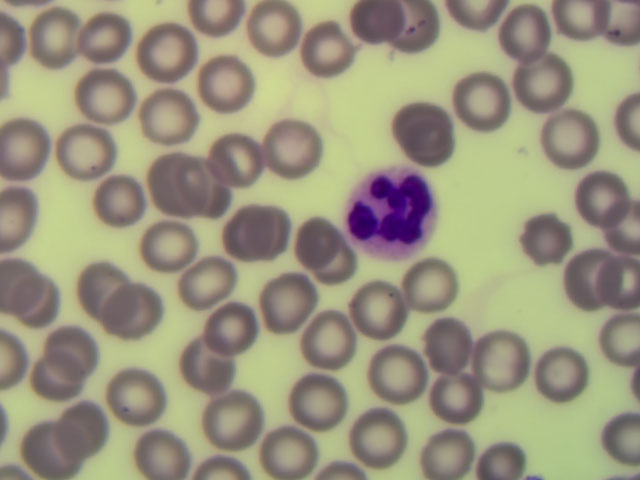RBC: (251, 420, 313, 480), (147, 420, 209, 480), (349, 404, 411, 464), (27, 9, 89, 68), (77, 5, 139, 64), (135, 14, 197, 73), (193, 52, 255, 111), (136, 85, 198, 144), (67, 67, 129, 126), (60, 115, 122, 174), (3, 120, 65, 179), (90, 171, 152, 230), (142, 148, 204, 207), (181, 151, 243, 210), (208, 133, 270, 192), (267, 118, 329, 177), (280, 207, 342, 266), (314, 232, 376, 291), (253, 201, 315, 260), (215, 201, 277, 260), (141, 213, 203, 272), (176, 252, 238, 311), (116, 275, 178, 334), (75, 260, 137, 319), (37, 318, 99, 377), (28, 352, 90, 411), (58, 397, 120, 456), (22, 414, 84, 473), (103, 370, 165, 429), (171, 336, 233, 395), (199, 309, 261, 368), (259, 278, 321, 337), (293, 309, 355, 368), (349, 279, 411, 338), (389, 263, 451, 322), (418, 318, 480, 377), (368, 344, 430, 403), (287, 373, 349, 432), (199, 390, 261, 449), (421, 372, 483, 431), (484, 327, 546, 386), (527, 344, 589, 403), (560, 253, 622, 312), (522, 212, 584, 271), (560, 172, 622, 231), (536, 111, 598, 170), (509, 60, 571, 119), (493, 5, 555, 64), (448, 75, 510, 134), (398, 99, 460, 158), (384, 4, 446, 63), (348, 1, 410, 60), (294, 15, 356, 74), (1, 268, 62, 327), (239, 1, 301, 59)
WBC: (346, 163, 440, 260)
